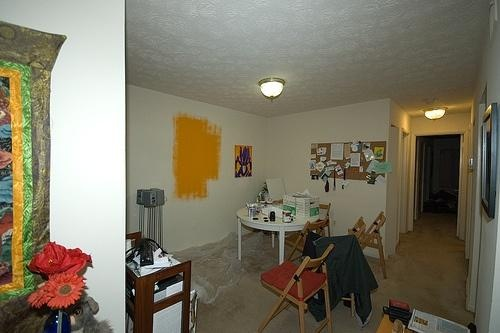chair: (259, 244, 334, 333), (348, 211, 387, 280), (286, 217, 329, 263), (318, 203, 332, 237), (351, 217, 367, 240)
diningtable: (236, 193, 319, 268)
